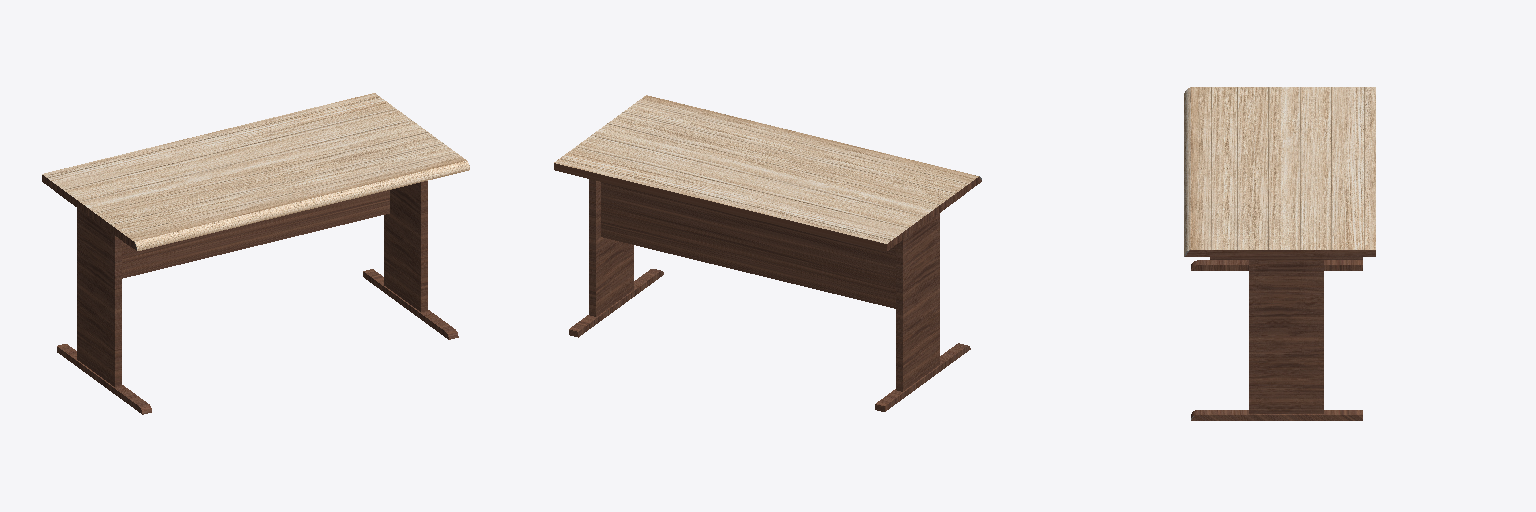
The picture shows the model from 3 angles: view 1: azimuth 30°, elevation 25°; view 2: azimuth 150°, elevation 25°; view 3: azimuth 270°, elevation 25°; orthographic projection.
Parts seen in each view (by area): view 1: carro_F1:Mesh6; view 2: carro_F1:Mesh6; view 3: carro_F1:Mesh6.
Boxes of the visible parts, box(x1,y1,x2,y2) form: carro_F1:Mesh6: box(42, 93, 469, 414); carro_F1:Mesh6: box(554, 95, 981, 411); carro_F1:Mesh6: box(1184, 87, 1375, 420).
Bounding box in the file's own units: 2.55 × 1.28 × 1.27.
5 materials, 2 textured.